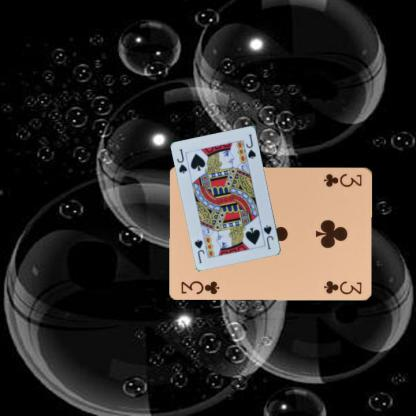3c: (178, 278, 221, 295), (322, 171, 364, 188)
Js: (261, 222, 275, 251), (174, 146, 188, 175)
